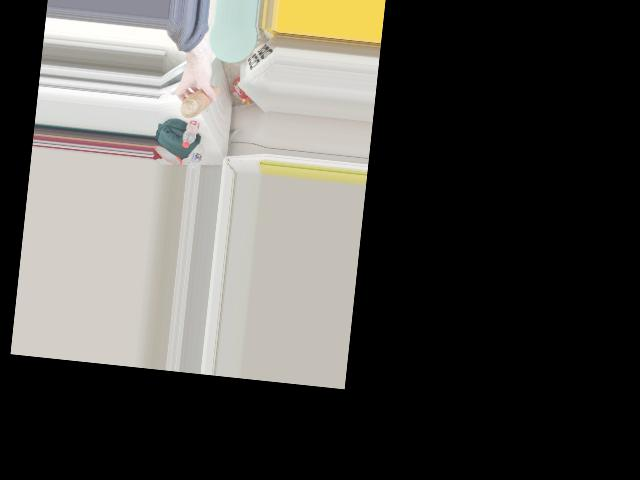sweet_potato: (176, 82, 224, 120)
